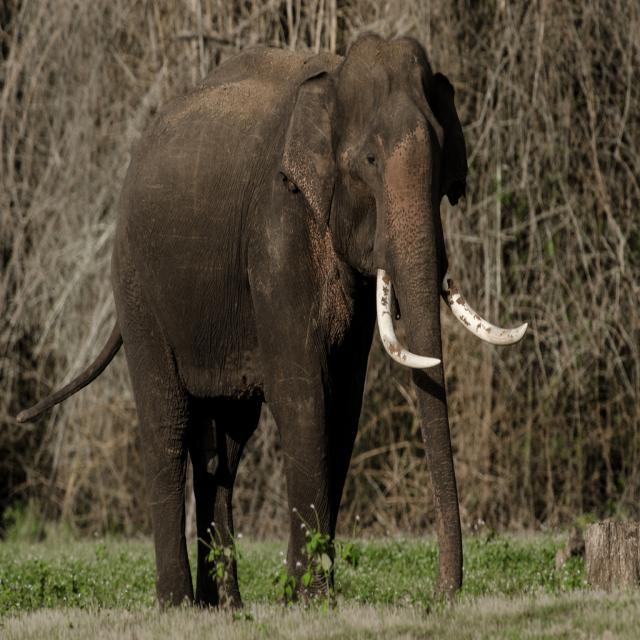Elephant: (15, 31, 527, 610)
